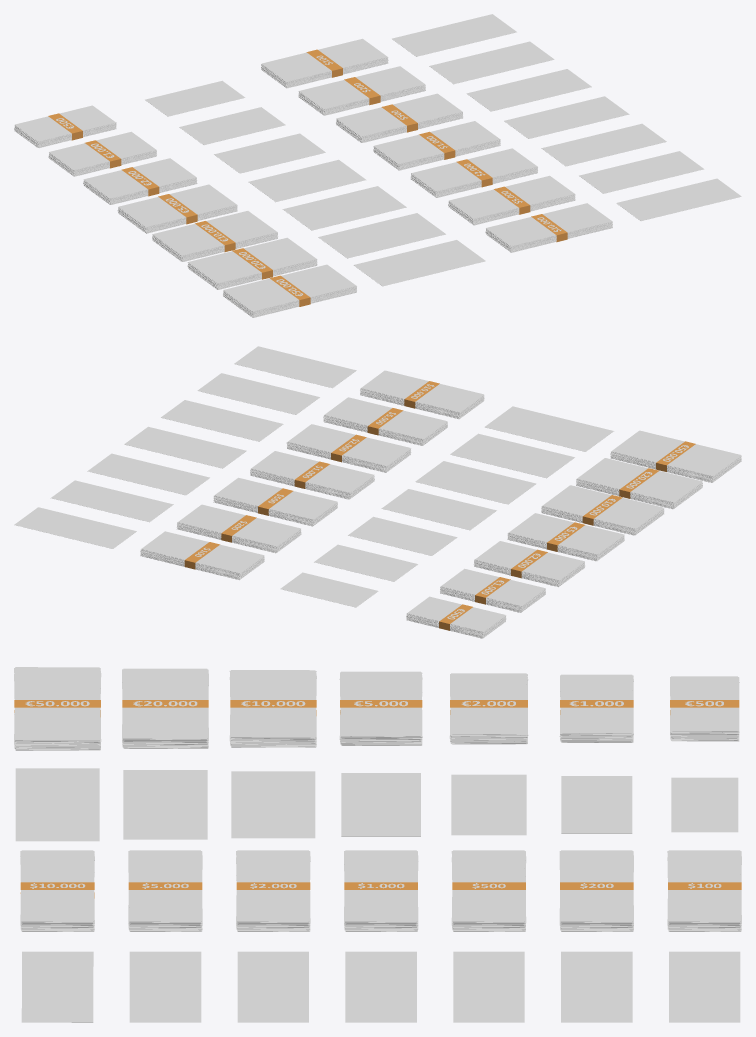
File: Dollars&Euros_MoneyPack.fbx
3 renders of one model, top to bottom at view 1: azimuth 30°, elevation 25°; view 2: azimuth 150°, elevation 25°; view 3: azimuth 270°, elevation 25°, orthographic. The views are drawn at different scales.
Visible parts, largest first — view 1: StackOf500E, StackOf200E, StackOf100E, StackOf50Dollars, StackOf1Dollar, StackOf10Dollars, StackOf2Dollars, StackOf20Dollars, StackOf100Dollars, StackOf5Dollars, StackOf50E, StackOf20E (+16 smaller); view 2: StackOf500E, StackOf200E, StackOf100E, StackOf100Dollars, StackOf1Dollar, StackOf50Dollars, StackOf2Dollars, StackOf10Dollars, StackOf5Dollars, StackOf20Dollars, StackOf50E, StackOf20E (+16 smaller); view 3: StackOf500E, StackOf200E, StackOf100E, 500E, StackOf50E, StackOf50Dollars, StackOf100Dollars, StackOf20Dollars, StackOf1Dollar, StackOf10Dollars, StackOf2Dollars, StackOf5Dollars (+16 smaller).
Part boxes in pixels (x1,y1,x2,y2): StackOf500E: (223,264,356,317); StackOf200E: (187,237,317,289); StackOf100E: (152,211,277,261); StackOf50Dollars: (448,175,575,225); StackOf1Dollar: (261,38,388,88); StackOf10Dollars: (373,121,500,170); StackOf2Dollars: (298,66,425,115); StackOf20Dollars: (410,148,537,197); StackOf100Dollars: (485,203,612,252); StackOf5Dollars: (336,93,463,142); StackOf50E: (117,184,237,233); StackOf20E: (83,158,197,204); StackOf500E: (610,430,741,482); StackOf200E: (576,458,702,509); StackOf100E: (541,485,664,535); StackOf100Dollars: (360,370,484,419); StackOf1Dollar: (140,531,264,579); StackOf50Dollars: (323,397,447,445); StackOf2Dollars: (177,504,301,553); StackOf10Dollars: (250,451,374,499); StackOf5Dollars: (213,477,337,526); StackOf20Dollars: (286,424,411,472); StackOf50E: (507,513,624,561); StackOf20E: (474,541,585,586); StackOf500E: (14,667,101,750); StackOf200E: (122,668,208,748); StackOf100E: (229,670,316,747); 500E: (15,768,99,841); StackOf50E: (339,671,422,745); StackOf50Dollars: (128,850,202,931); StackOf100Dollars: (20,850,94,931); StackOf20Dollars: (236,850,310,931); StackOf1Dollar: (667,850,741,931); StackOf10Dollars: (344,850,418,931); StackOf2Dollars: (559,850,633,931); StackOf5Dollars: (451,850,526,931).
Bounding box in the file's own units: 75.93 × 67.5 × 1.04.
